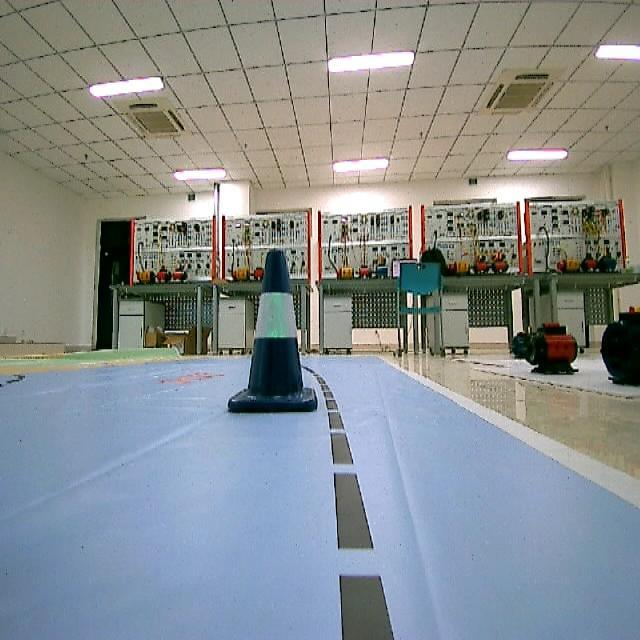obstacle: (228, 252, 320, 419)
